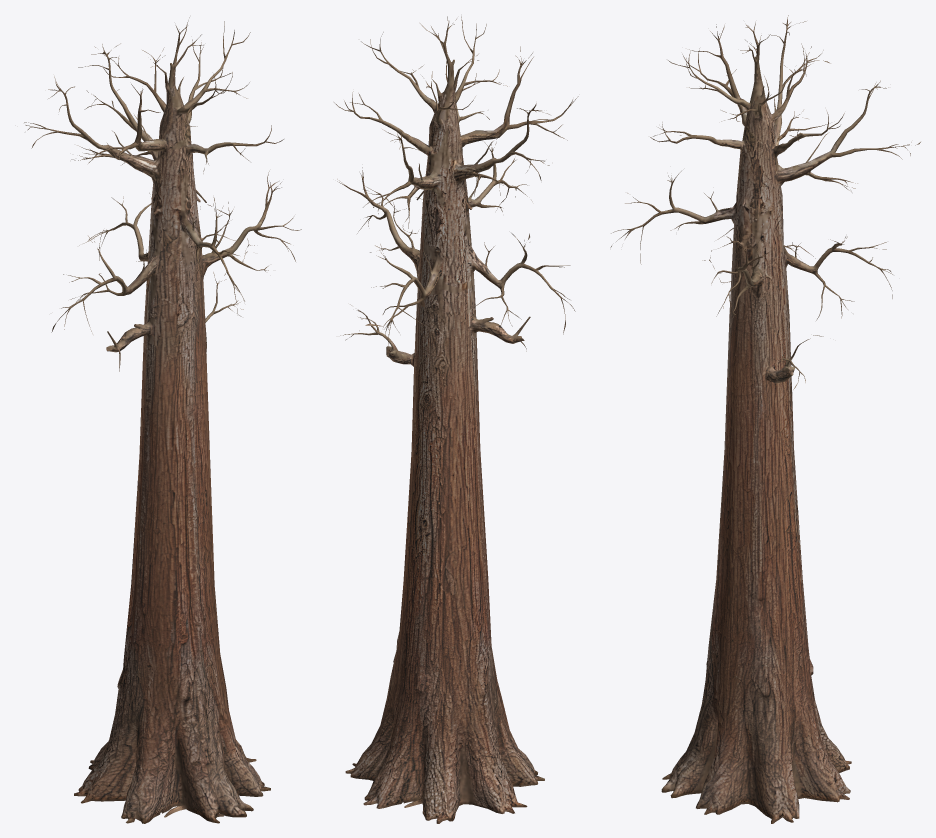
File: redwoodbasepacked.fbx
3 renders of one model, left to right at view 1: azimuth 30°, elevation 25°; view 2: azimuth 150°, elevation 25°; view 3: azimuth 270°, elevation 25°, orthographic.
Visible parts, largest first — view 1: tripo_node_ae5e0d4c; view 2: tripo_node_ae5e0d4c; view 3: tripo_node_ae5e0d4c.
Boxes of the visible parts, <box> form: tripo_node_ae5e0d4c: <box>24,17,301,823</box>; tripo_node_ae5e0d4c: <box>334,16,578,823</box>; tripo_node_ae5e0d4c: <box>610,15,920,823</box>.
Size of the model in its own units: 3384 by 9995 by 3706.
